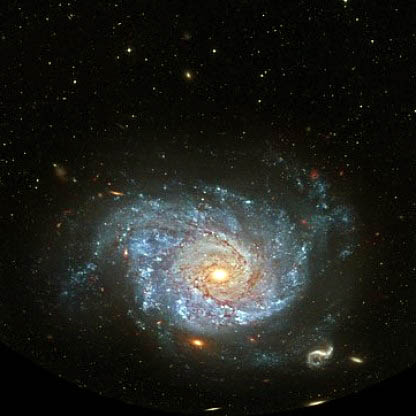NGC 1309: (50, 156, 394, 371)
